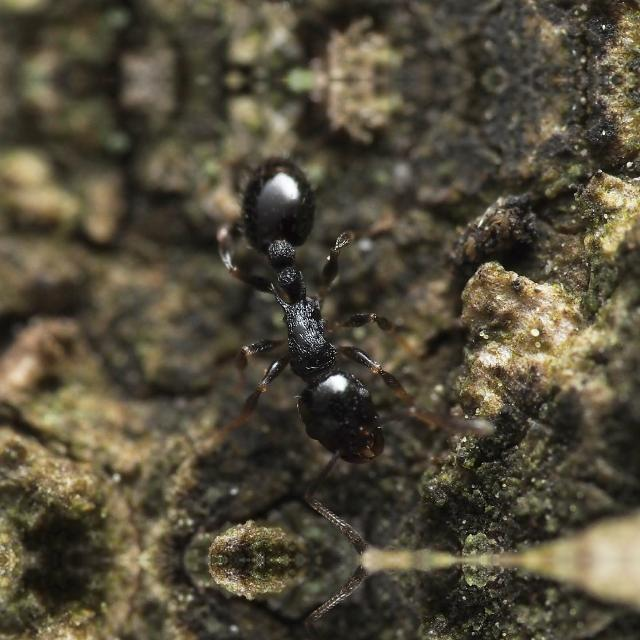Temnothorax: (192, 130, 438, 493)
